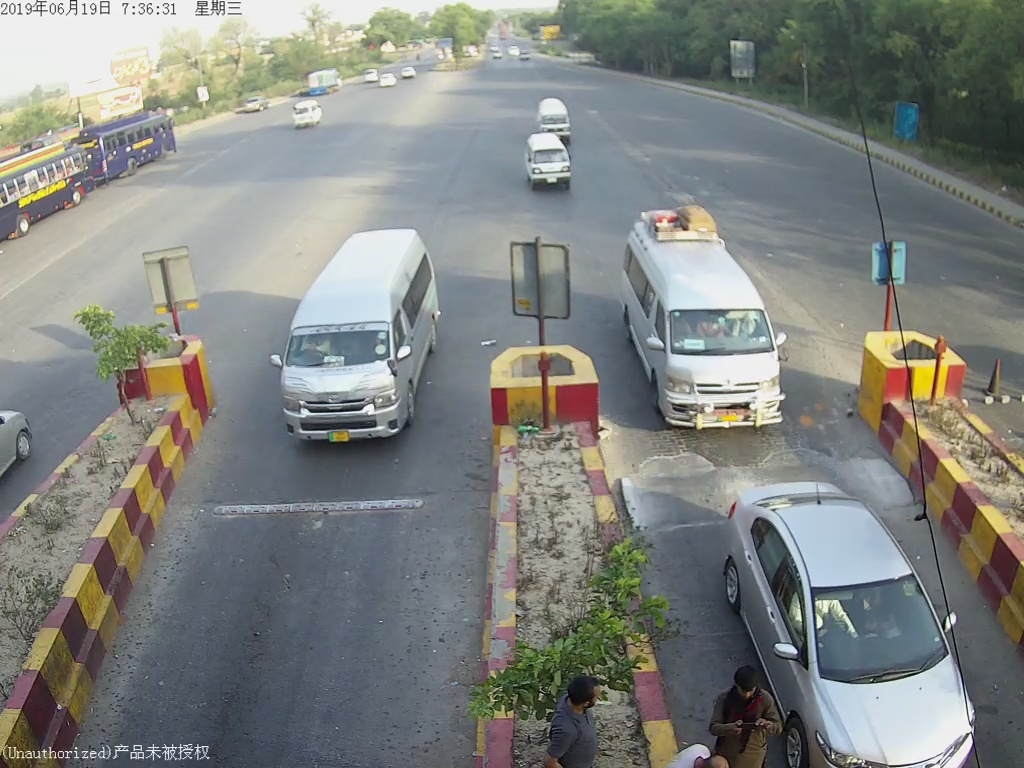Cat-1: (725, 481, 987, 768), (524, 134, 578, 189), (538, 95, 574, 141)
Cat-2: (615, 199, 796, 431), (267, 218, 445, 451)
